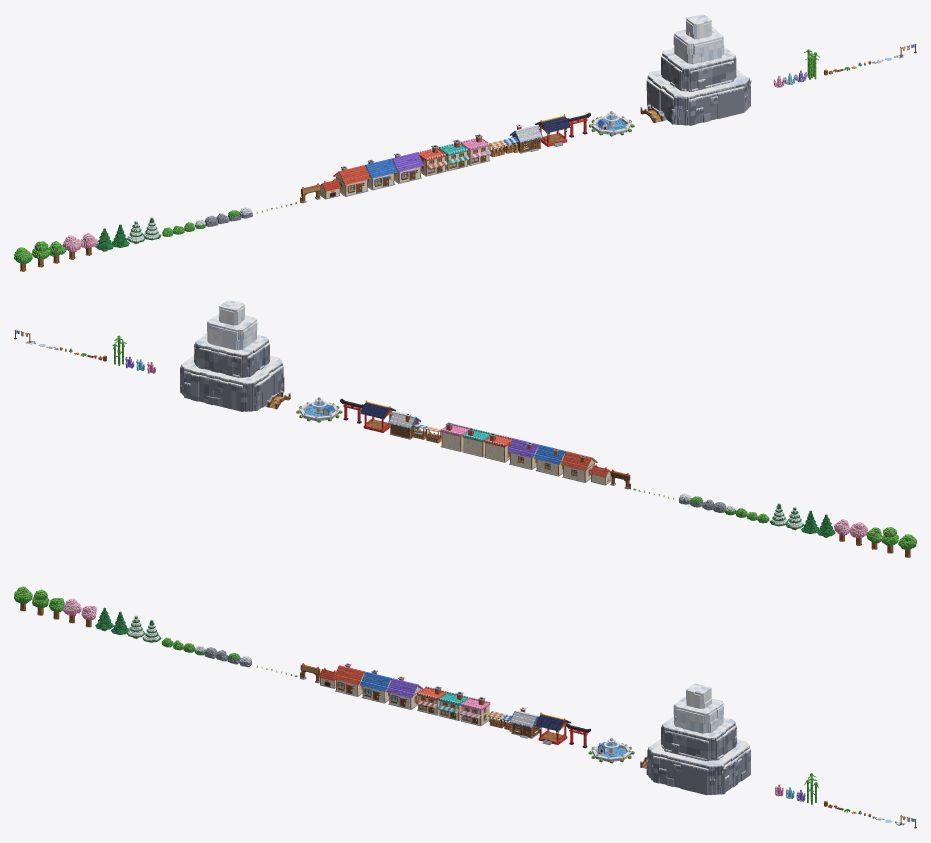
File: MapProps.fbx
The picture shows the model from 3 angles, top to bottom: view 1: azimuth 30°, elevation 25°; view 2: azimuth 150°, elevation 25°; view 3: azimuth 330°, elevation 25°; orthographic projection.
Visible parts, largest first — view 1: Mountain, House_1, House_2, House_3, Pavilion, Cabin, Fountain, Shop_1, Shop_3, Shop_2; view 2: Mountain, House_1, House_2, House_3, Pavilion, Fountain, Cabin, Shop_1, Shop_3, Shop_2; view 3: Mountain, House_3, House_2, House_1, Pavilion, Shop_3, Cabin, Fountain, Shop_2, Shop_1.
Boxes of the visible parts, x1,y1,x2,y2 form: Mountain: (646, 14, 751, 125); House_1: (333, 165, 370, 196); House_2: (364, 158, 396, 190); House_3: (391, 152, 423, 183); Pavilion: (535, 114, 570, 146); Cabin: (509, 124, 542, 153); Fountain: (589, 111, 634, 136); Shop_1: (417, 145, 447, 176); Shop_3: (460, 134, 491, 165); Shop_2: (438, 139, 469, 171); Mountain: (180, 300, 284, 411); House_1: (560, 451, 597, 482); House_2: (534, 445, 566, 476); House_3: (507, 438, 539, 469); Pavilion: (360, 400, 395, 432); Fountain: (296, 397, 342, 422); Cabin: (388, 411, 421, 439); Shop_1: (484, 433, 513, 462); Shop_3: (440, 422, 469, 451); Shop_2: (462, 427, 491, 457); Mountain: (646, 683, 750, 795); House_3: (386, 676, 423, 709); House_2: (359, 670, 392, 703); House_1: (333, 663, 365, 696); Pavilion: (535, 712, 570, 745); Shop_3: (459, 697, 490, 726); Cabin: (509, 706, 539, 738); Fountain: (588, 737, 634, 763); Shop_2: (437, 691, 468, 720); Shop_1: (416, 686, 446, 715).
Bounding box in the file's own units: 744 × 68.25 × 53.25.
1 material, 1 textured.
